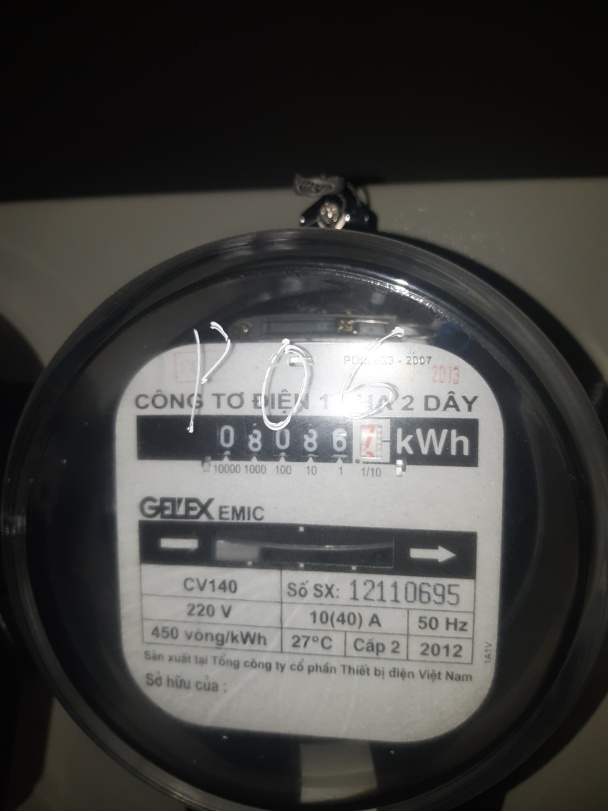counter: (135, 413, 481, 470)
electricity_meter: (31, 225, 603, 798)
